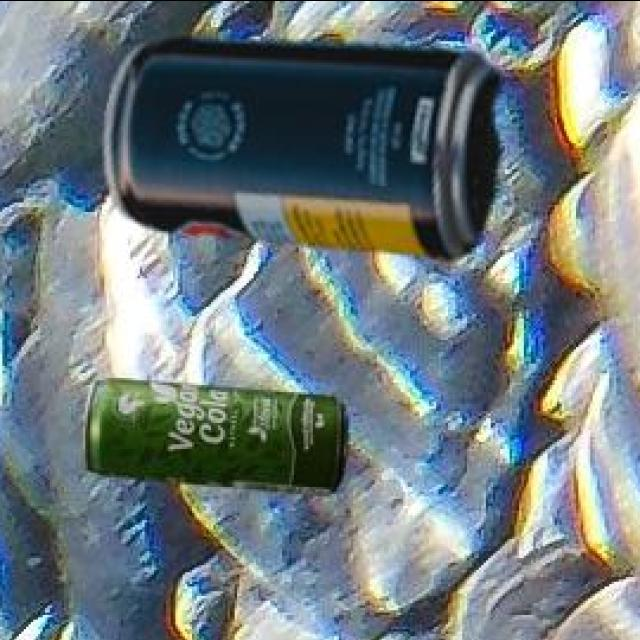logam: (101, 39, 497, 262), (79, 380, 345, 499)
